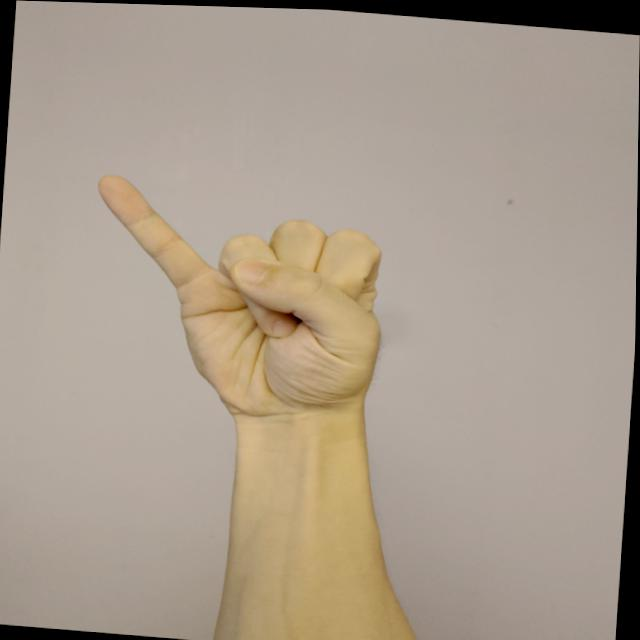I: (78, 167, 401, 427)
